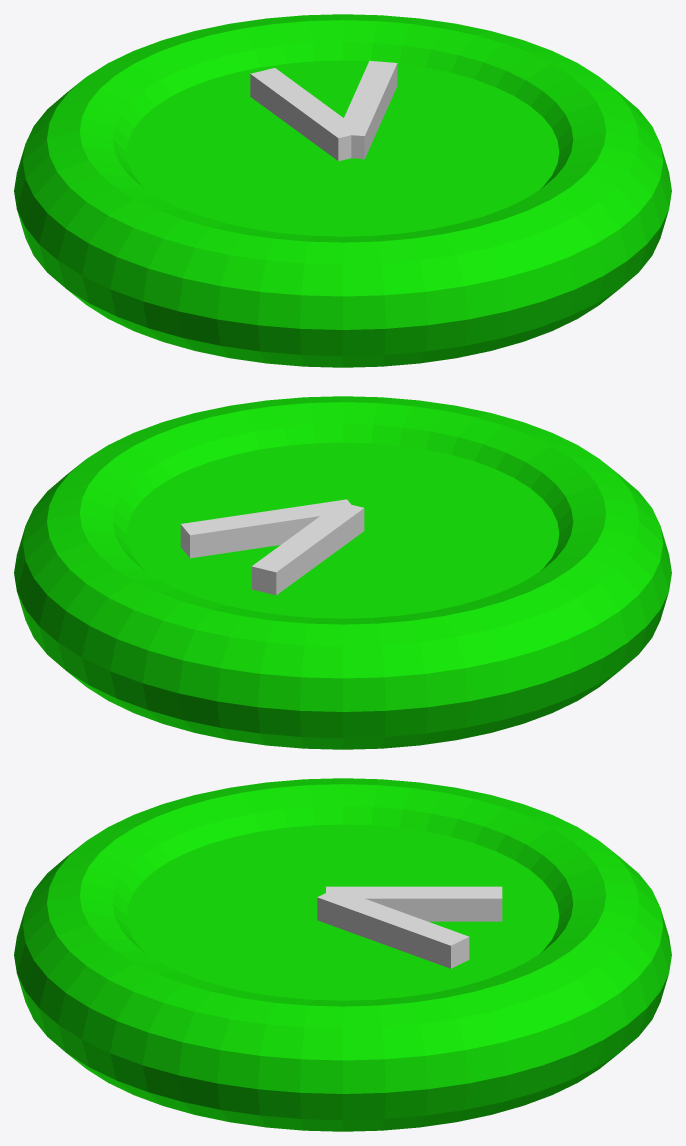
The model's file is ClockAdd.fbx.
The picture shows the model from 3 angles, top to bottom: view 1: azimuth 30°, elevation 25°; view 2: azimuth 150°, elevation 25°; view 3: azimuth 270°, elevation 25°; orthographic projection.
Parts seen in each view (by area): view 1: ClockAdd; view 2: ClockAdd; view 3: ClockAdd.
Boxes of the visible parts, x1,y1,x2,y2 form: ClockAdd: [14, 14, 671, 367]; ClockAdd: [14, 396, 671, 749]; ClockAdd: [14, 778, 671, 1131].
Size of the model in its own units: 2.5 by 0.5101 by 2.5.
